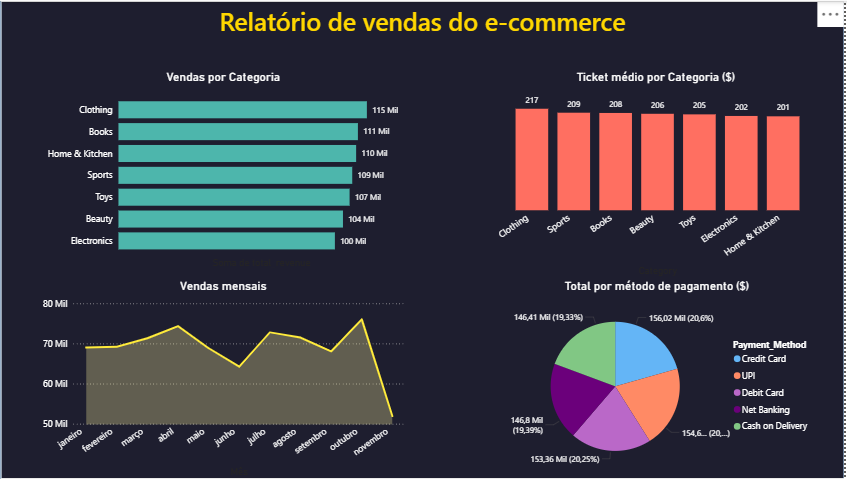

The dashboard page shown, as its layout file describes it:
{"tool":"powerbi","page":{"name":"Página 1","canvas":[1280,720],"ordinal":0},"visuals":[{"type":"shape","box":[9.9,0,1270,720.3],"z":0},{"type":"columnChart","title":"Ticket médio por Categoria ($)","fields":{"Y":["Sum(avg_ticket_by_category.avg_ticket)"],"Category":["avg_ticket_by_category.Category"]},"box":[748.4,104.3,495.1,314.6],"z":2000},{"type":"areaChart","title":"Vendas mensais","fields":{"Category":["monthly_revenue.month.Variation.Hierarquia de datas.Mês"],"Y":["Sum(monthly_revenue.monthly_revenue)"]},"box":[67.9,418.9,554.7,301.3],"z":3000},{"type":"pieChart","title":"Total por método de pagamento ($)","fields":{"Category":["payment_distribution.Payment_Method"],"Y":["Sum(payment_distribution.total_value)"]},"box":[751.7,418.9,491.8,301.3],"z":4000},{"type":"barChart","title":"Vendas por Categoria","fields":{"Category":["sales_by_category.Category"],"Y":["Sum(sales_by_category.total_revenue)"]},"box":[67.9,104.3,554.7,301.3],"z":4001},{"type":"textbox","box":[319.6,0,650.7,82.8],"z":4002}]}

Visuals, with their boxes in screenshot pixels (x1, y1, x2, y2), scaled from the page's 1280x720 canvas onto the 847x479 screenshot:
shape: 7:0:846:478
"Ticket médio por Categoria ($)" columnChart: 495:69:823:279
"Vendas mensais" areaChart: 45:279:412:478
"Total por método de pagamento ($)" pieChart: 497:279:823:478
"Vendas por Categoria" barChart: 45:69:412:270
textbox: 211:0:642:55
